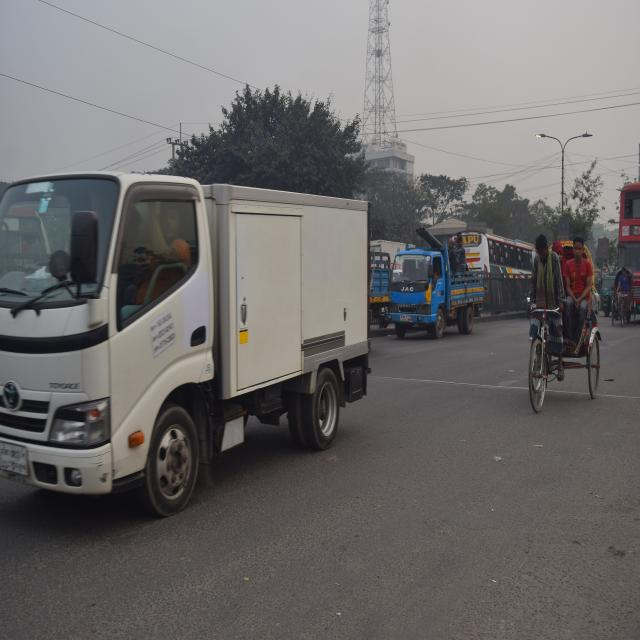bus: (460, 205, 545, 286), (616, 168, 640, 326)
pickup-van: (0, 156, 393, 529), (388, 224, 487, 340)
